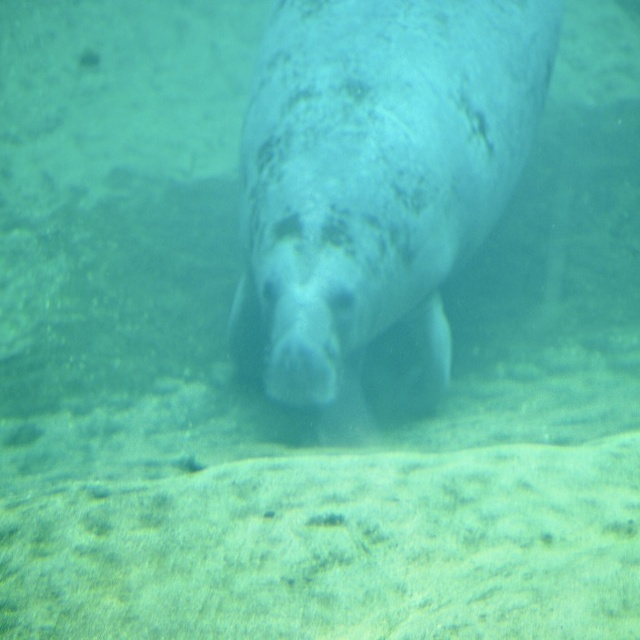Harbor seal: (227, 0, 563, 431)
